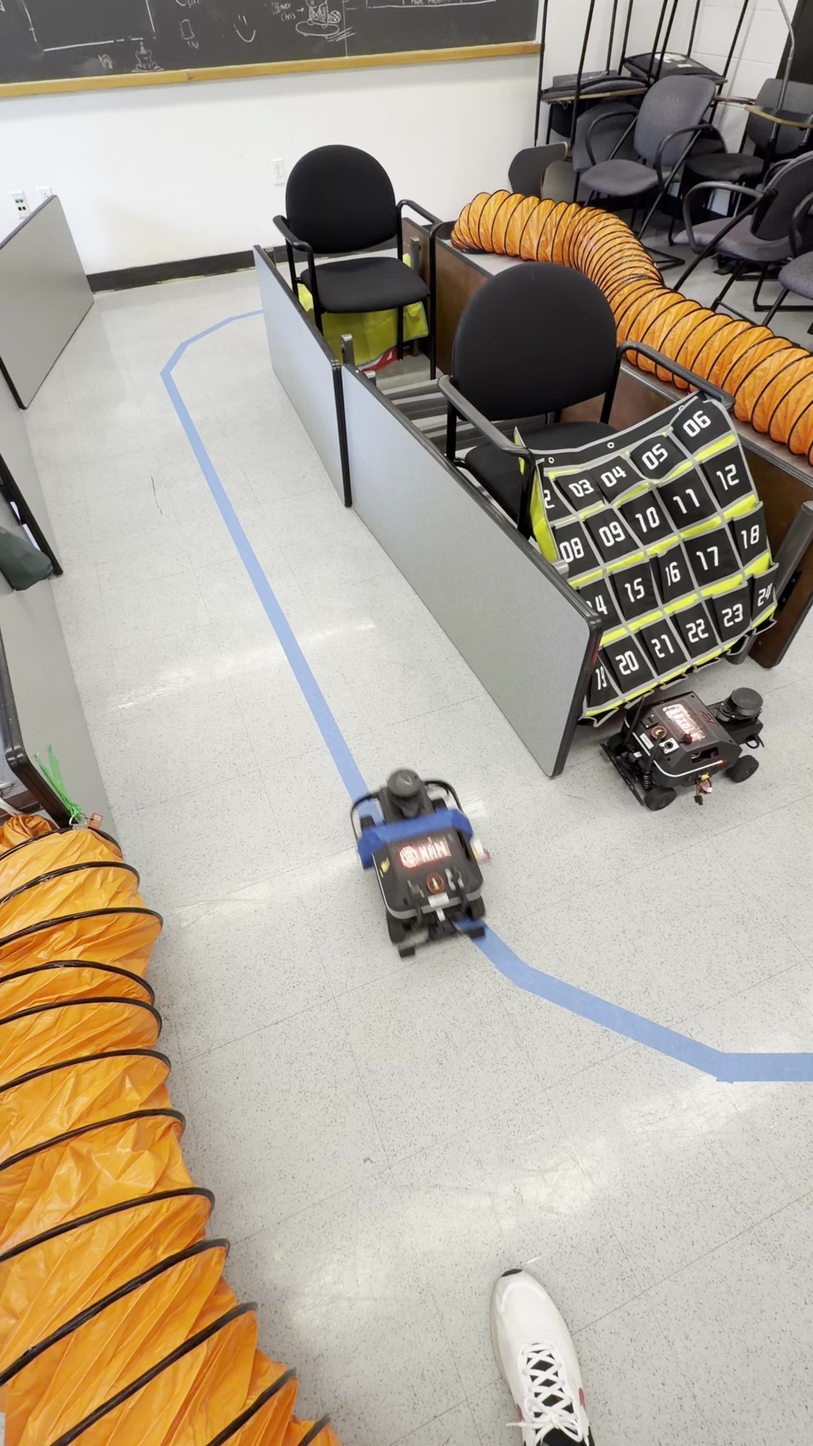racecar: (350, 770, 484, 960), (600, 681, 763, 810)
